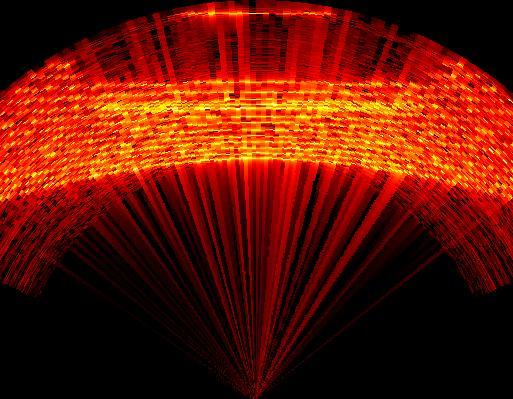pipe: (60, 11, 469, 115)
